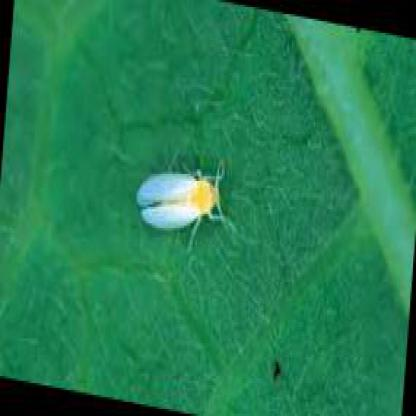whitefly: (136, 173, 221, 231)
